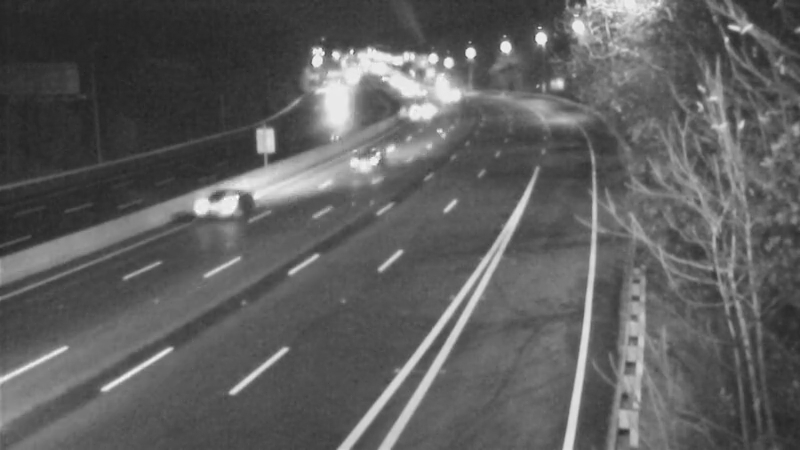vehicle: (320, 121, 400, 201), (180, 167, 260, 247), (392, 86, 442, 136), (307, 75, 357, 125)
